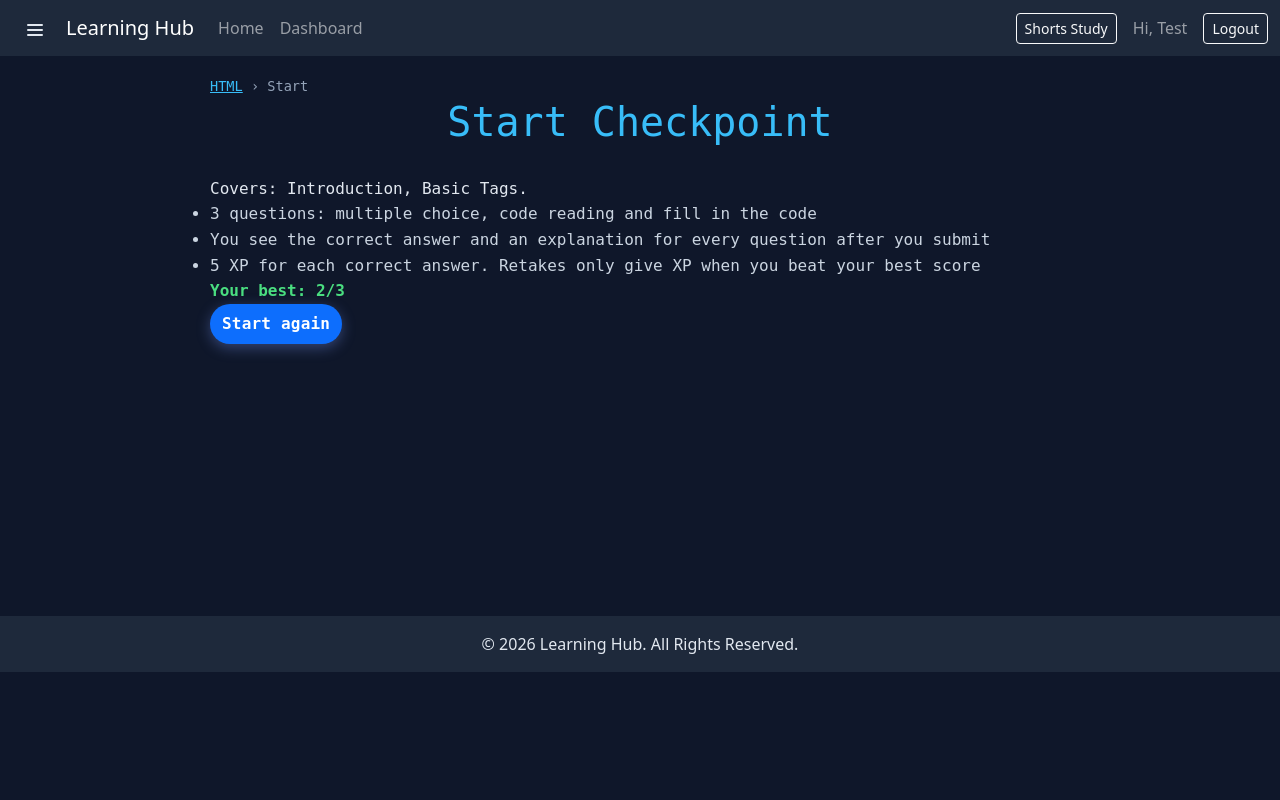
Test: taking a quiz › shows an intro with the best score and starts on the first question
Expected: the heading "Start Checkpoint" is shown, 447,99 -> 833,145
Expected: the text "Covers: Introduction, Basic Tags." is shown, 210,179 -> 528,198
What coordinates should you click on to do the following:
click the button "Start again"
I would click on:
 (276, 324)
Its box is 210,304 -> 342,344.
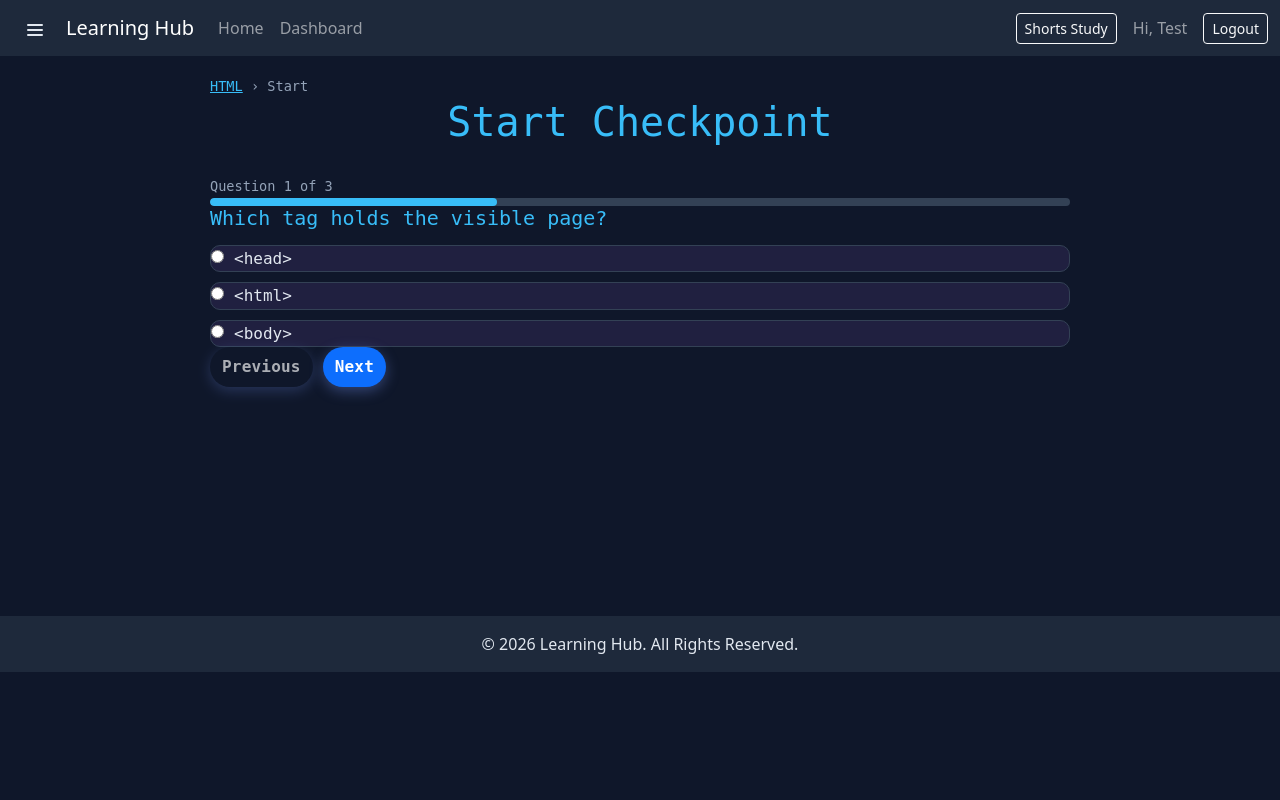
Now the text "Question 1 of 3" is shown, box 210,178 -> 333,194
Now the heading "Which tag holds the visible page?" is shown, box 210,206 -> 607,230
